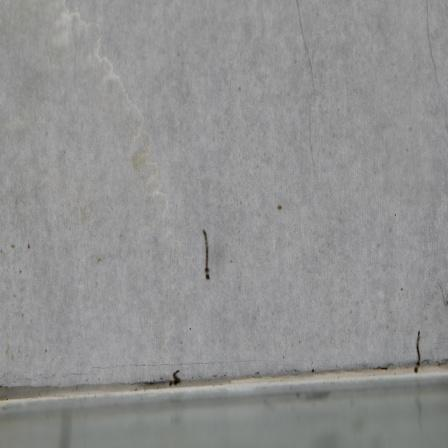Jentik-Nyamuk: (197, 224, 217, 283), (409, 326, 424, 375), (165, 365, 183, 395)
